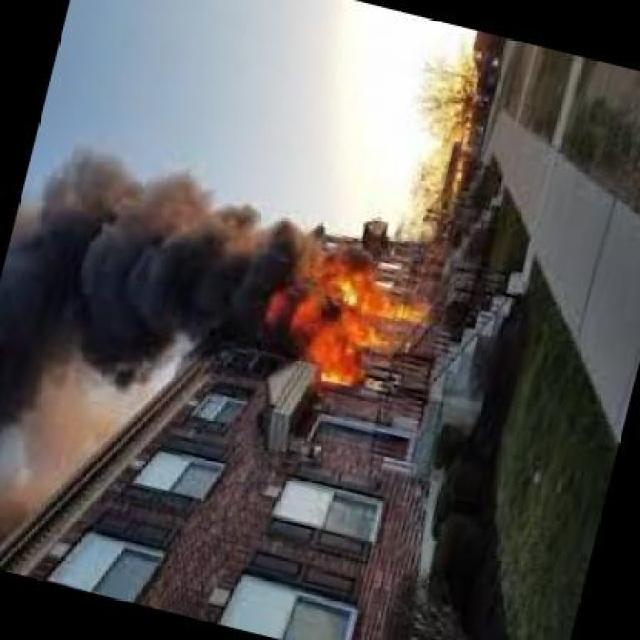Fire: (276, 248, 416, 390)
Smoke: (7, 151, 273, 449)
